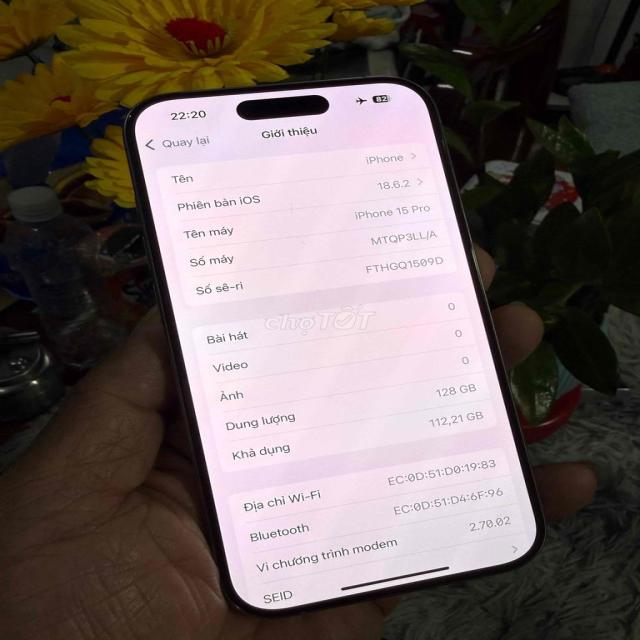gen_15: (110, 71, 557, 622)
